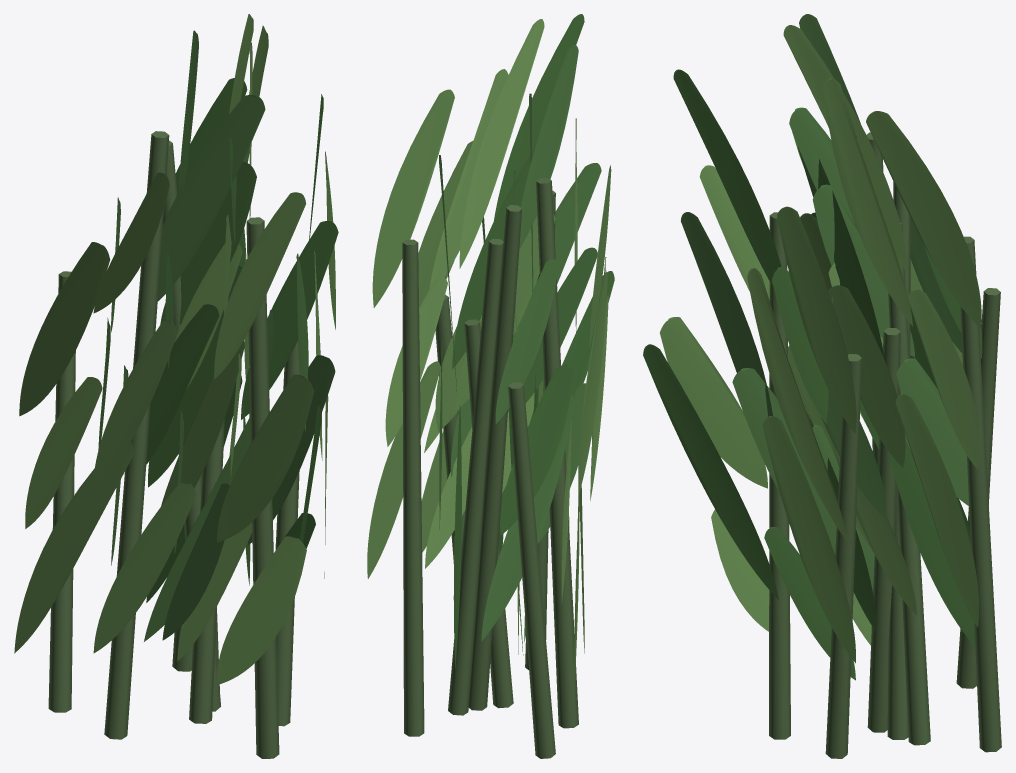
Rendered from plant-stem-green-bush.glb.
3 views of the same model, side by side, from view 1: azimuth 30°, elevation 25°; view 2: azimuth 150°, elevation 25°; view 3: azimuth 270°, elevation 25° (orthographic). The views are drawn at different scales.
Parts seen in each view (by area): view 1: plant-stem-green-bush; view 2: plant-stem-green-bush; view 3: plant-stem-green-bush.
Boxes of the visible parts, x1,y1,x2,y2 form: plant-stem-green-bush: (14, 14, 338, 758); plant-stem-green-bush: (367, 14, 614, 758); plant-stem-green-bush: (643, 14, 1001, 758).
Size of the model in its own units: 0.4622 by 1.27 by 0.5849.
